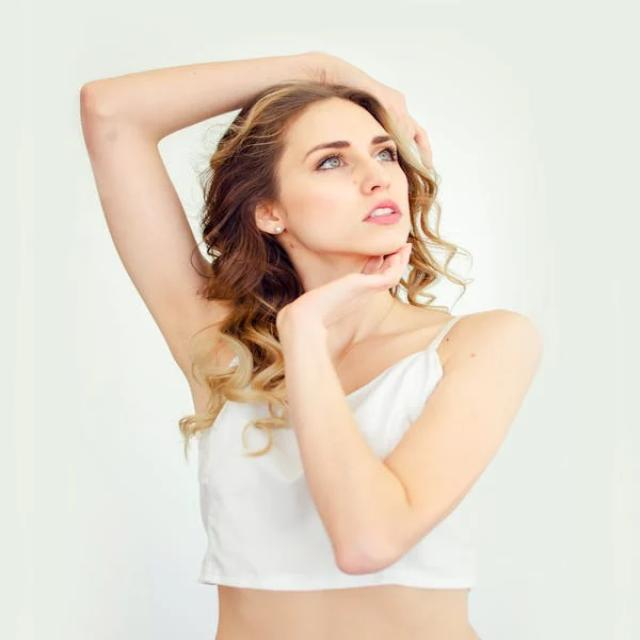no_mask: (264, 115, 454, 282)
